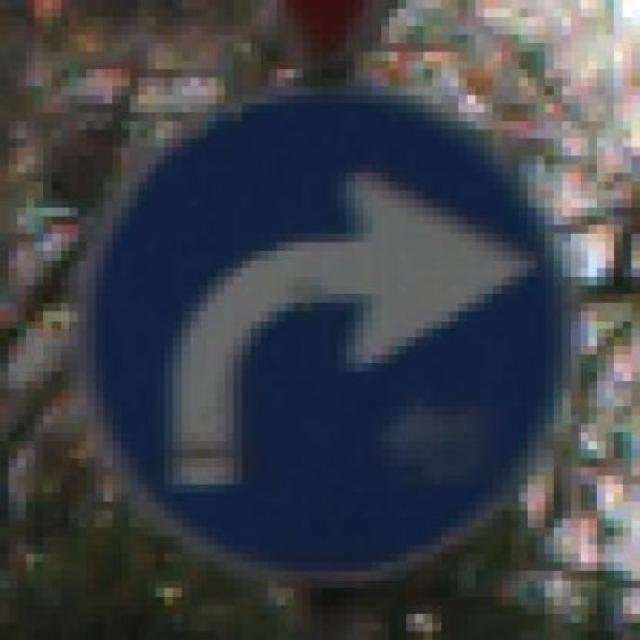Turn right ahead: (69, 69, 597, 597)
